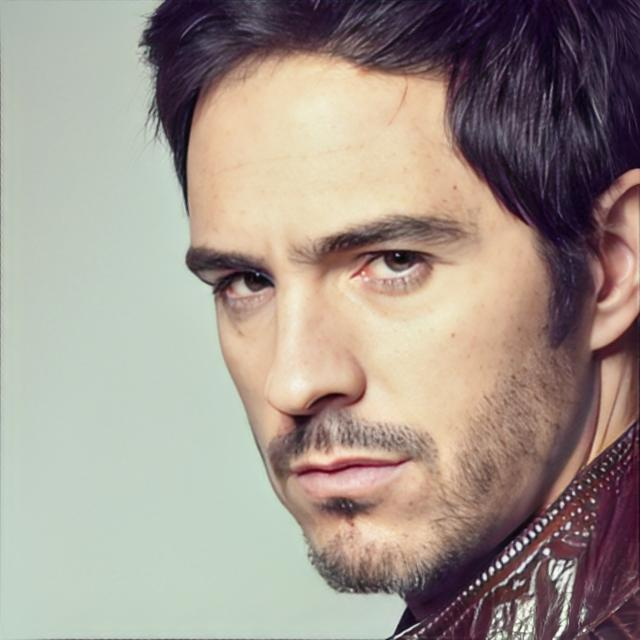anger: (200, 49, 574, 599)
